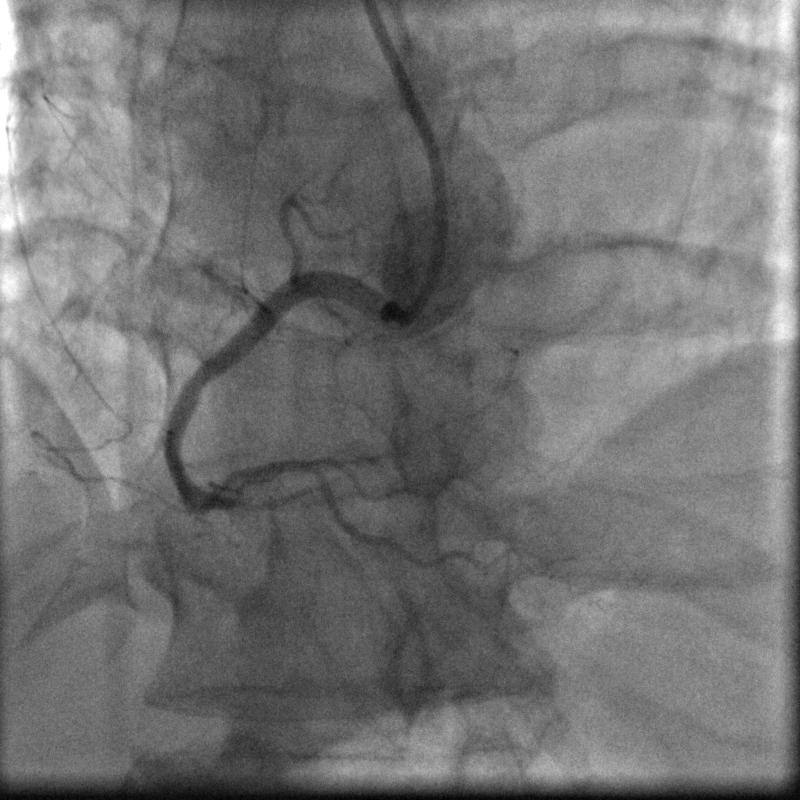Stenosis: (210, 483, 263, 516)
